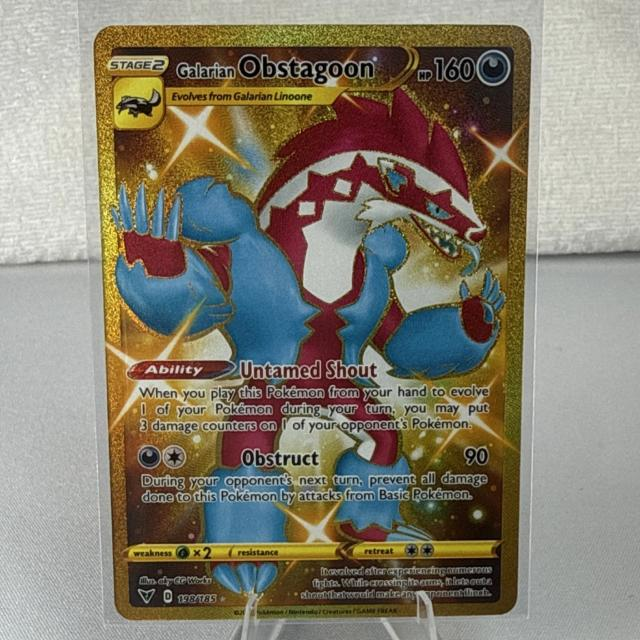Card: (87, 15, 537, 626)
Name: (172, 49, 380, 90)
